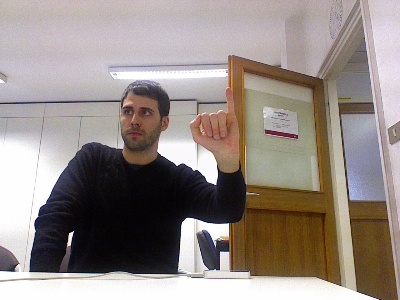小指: (188, 85, 241, 154)
